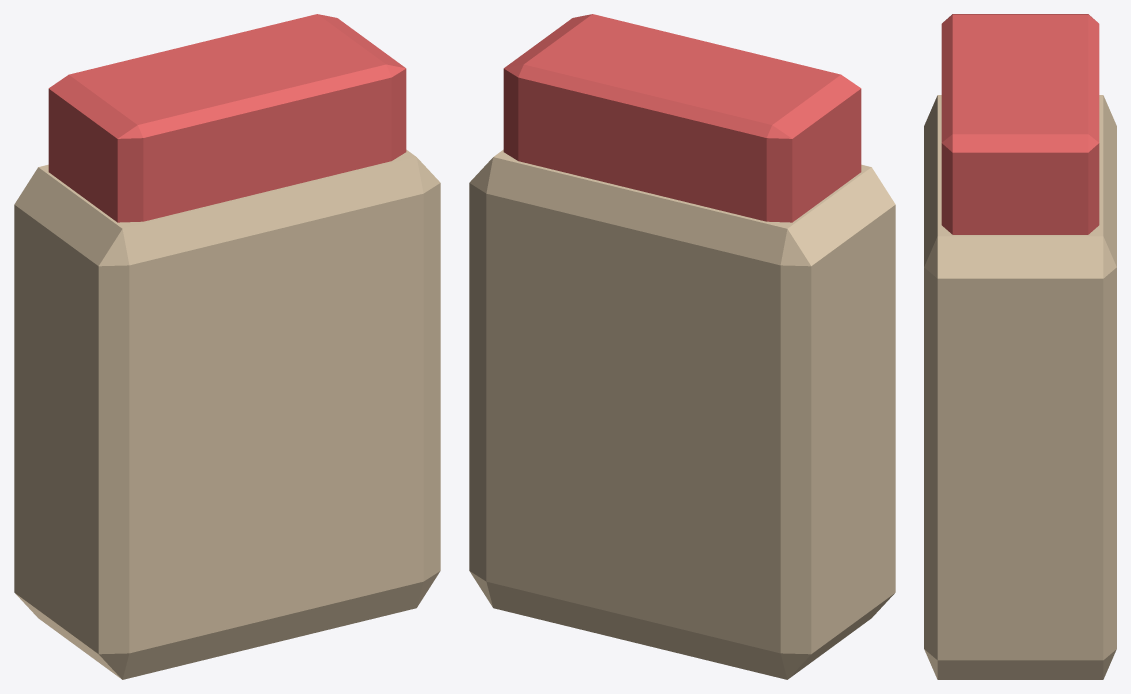
Rendered from b16_sealed_potato_chip_bag.glb.
3 renders of one model, left to right at view 1: azimuth 30°, elevation 25°; view 2: azimuth 150°, elevation 25°; view 3: azimuth 270°, elevation 25°, orthographic.
Parts seen in each view (by area): view 1: b16_sealed_potato_chip_bag; view 2: b16_sealed_potato_chip_bag; view 3: b16_sealed_potato_chip_bag.
Part boxes in pixels (bbox=[...]): b16_sealed_potato_chip_bag: bbox=[14, 14, 440, 679]; b16_sealed_potato_chip_bag: bbox=[469, 14, 895, 679]; b16_sealed_potato_chip_bag: bbox=[924, 14, 1116, 679].
Bounding box in the file's own units: 0.133 × 0.202 × 0.066.
